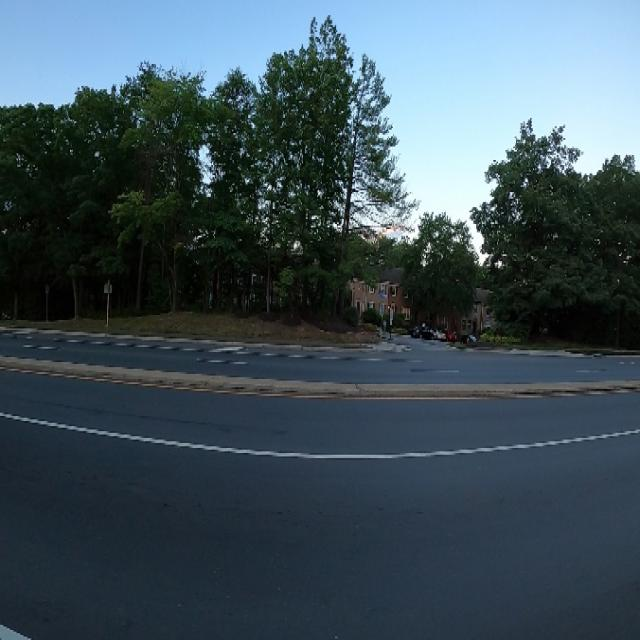cars: (408, 323, 434, 340), (435, 323, 449, 344), (447, 327, 458, 344)
